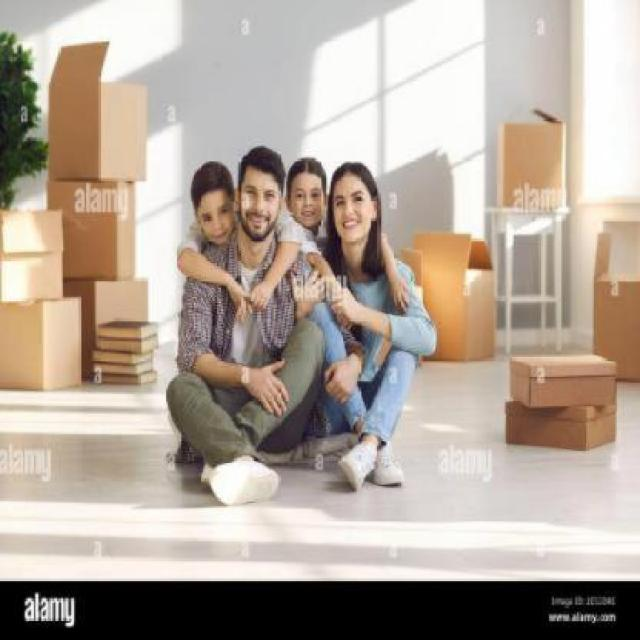box: (42, 36, 143, 184), (408, 223, 510, 368), (62, 273, 158, 384), (586, 236, 640, 409), (495, 109, 568, 236), (49, 181, 140, 273), (506, 350, 625, 418), (0, 294, 80, 395), (504, 400, 624, 458), (0, 203, 63, 300)
